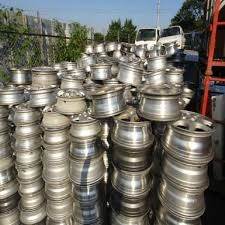metal: (161, 107, 220, 167), (147, 174, 215, 218), (131, 79, 185, 126), (156, 149, 212, 194), (107, 112, 161, 155), (101, 138, 162, 172), (105, 163, 158, 202), (84, 82, 132, 118), (62, 154, 103, 184), (64, 132, 104, 162), (53, 86, 89, 117), (81, 58, 119, 86), (68, 115, 107, 142), (27, 63, 62, 93), (68, 179, 108, 205), (113, 58, 148, 85), (2, 61, 33, 91), (41, 175, 76, 201), (37, 127, 73, 152), (13, 171, 49, 196), (9, 102, 41, 129), (13, 198, 46, 224), (9, 121, 46, 143), (41, 107, 71, 132), (142, 49, 171, 73), (11, 149, 45, 169), (39, 152, 68, 175), (58, 73, 88, 94)
